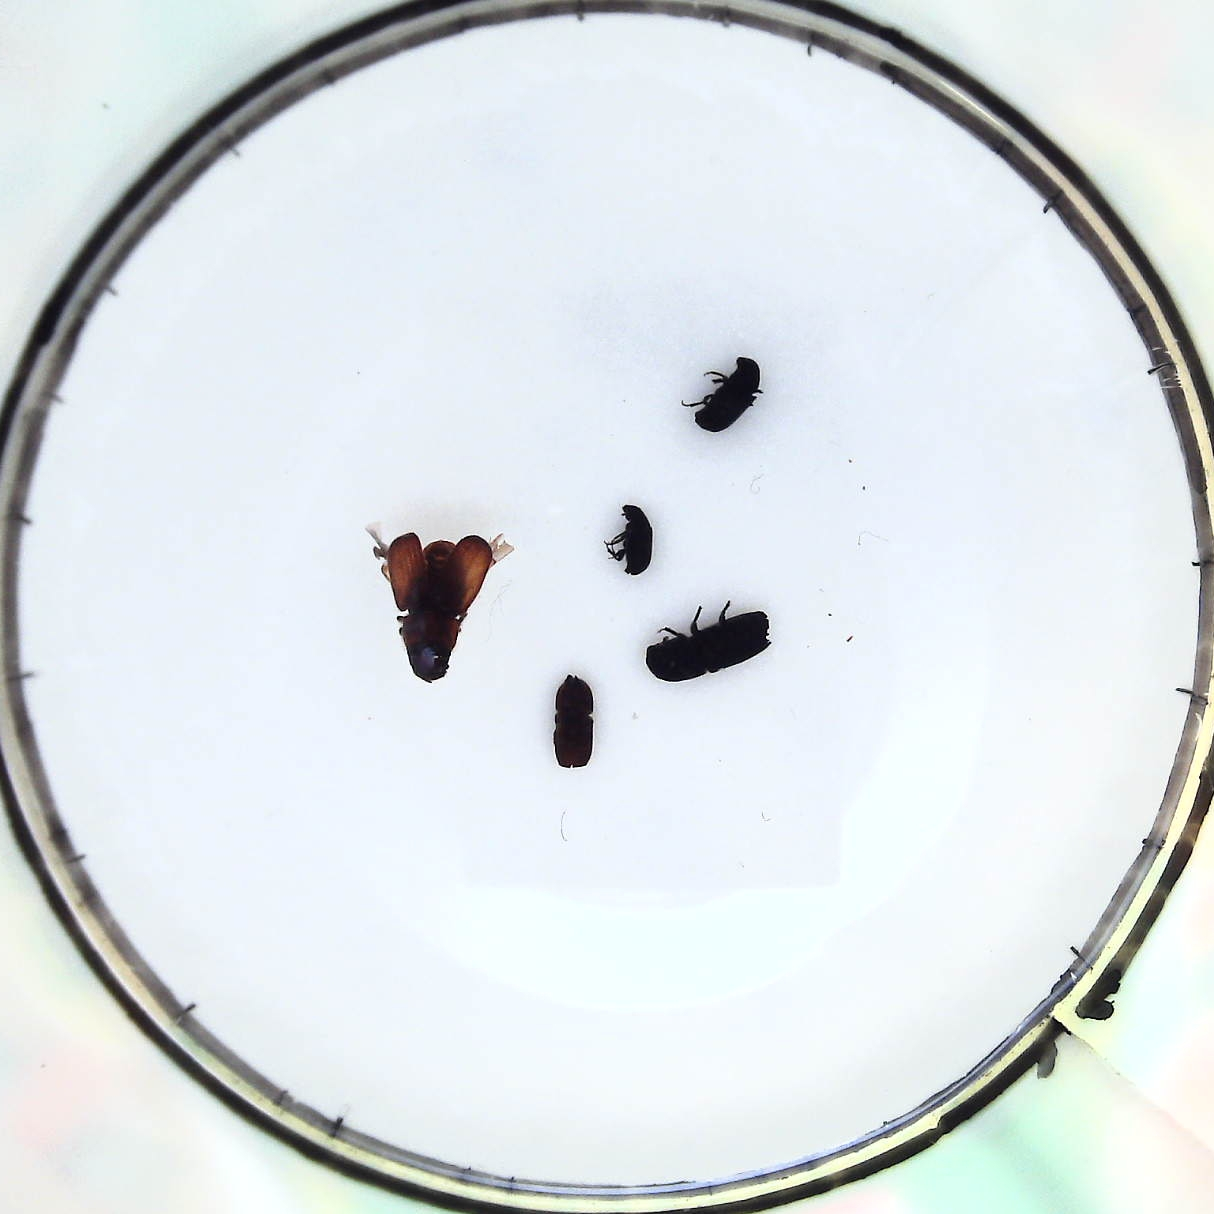Boerner: (645, 607, 775, 688)
Leconte: (375, 529, 499, 683)
Linnaeus: (548, 678, 599, 775)
armandi: (694, 354, 758, 436)
coleoptera: (611, 497, 658, 585)
